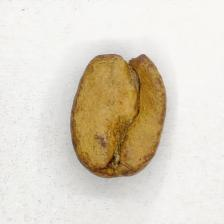NG: (80, 63, 151, 174)
